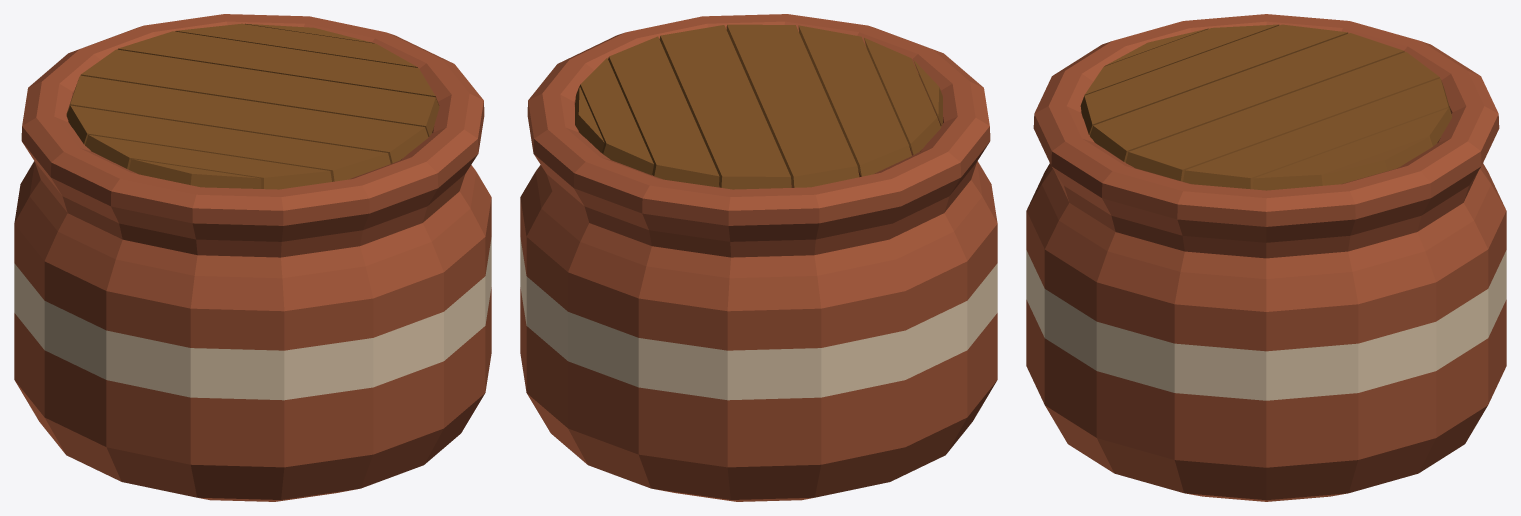
File: Largepot.fbx
The picture shows the model from 3 angles, left to right: view 1: azimuth 30°, elevation 25°; view 2: azimuth 150°, elevation 25°; view 3: azimuth 270°, elevation 25°; orthographic projection.
Parts seen in each view (by area): view 1: Largepot, Potlid; view 2: Largepot, Potlid; view 3: Largepot, Potlid.
Boxes of the visible parts, bbox=[...] form: Largepot: bbox=[14, 14, 491, 501]; Potlid: bbox=[66, 23, 439, 189]; Largepot: bbox=[520, 14, 997, 501]; Potlid: bbox=[575, 24, 942, 189]; Largepot: bbox=[1026, 14, 1506, 501]; Potlid: bbox=[1080, 24, 1452, 190].
Size of the model in its own units: 1 by 0.7592 by 1.
